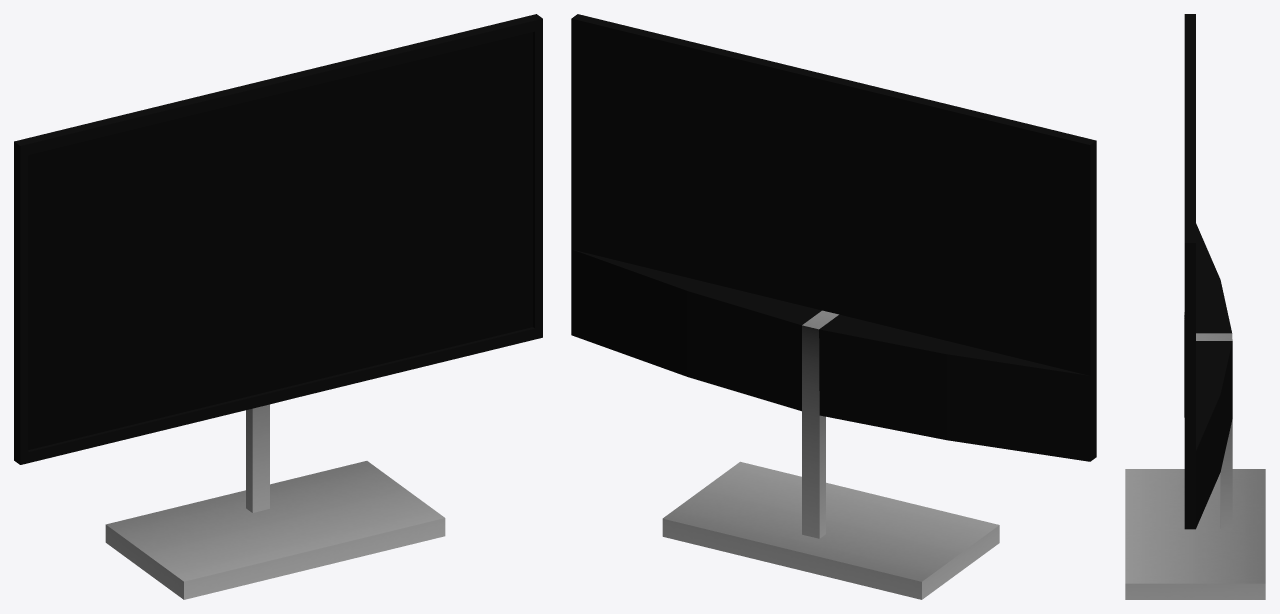
File: Monitor.FBX
The picture shows the model from 3 angles, left to right: view 1: azimuth 30°, elevation 25°; view 2: azimuth 150°, elevation 25°; view 3: azimuth 270°, elevation 25°; orthographic projection. The views are drawn at different scales.
Parts seen in each view (by area): view 1: Box001; view 2: Box001; view 3: Box001.
Boxes of the visible parts, left/top/right/bottom form: Box001: left=14, top=14, right=542, bottom=599; Box001: left=571, top=14, right=1096, bottom=599; Box001: left=1125, top=14, right=1265, bottom=599.
Bounding box in the file's own units: 60 × 50.64 × 15.56.
3 materials, 1 textured.
